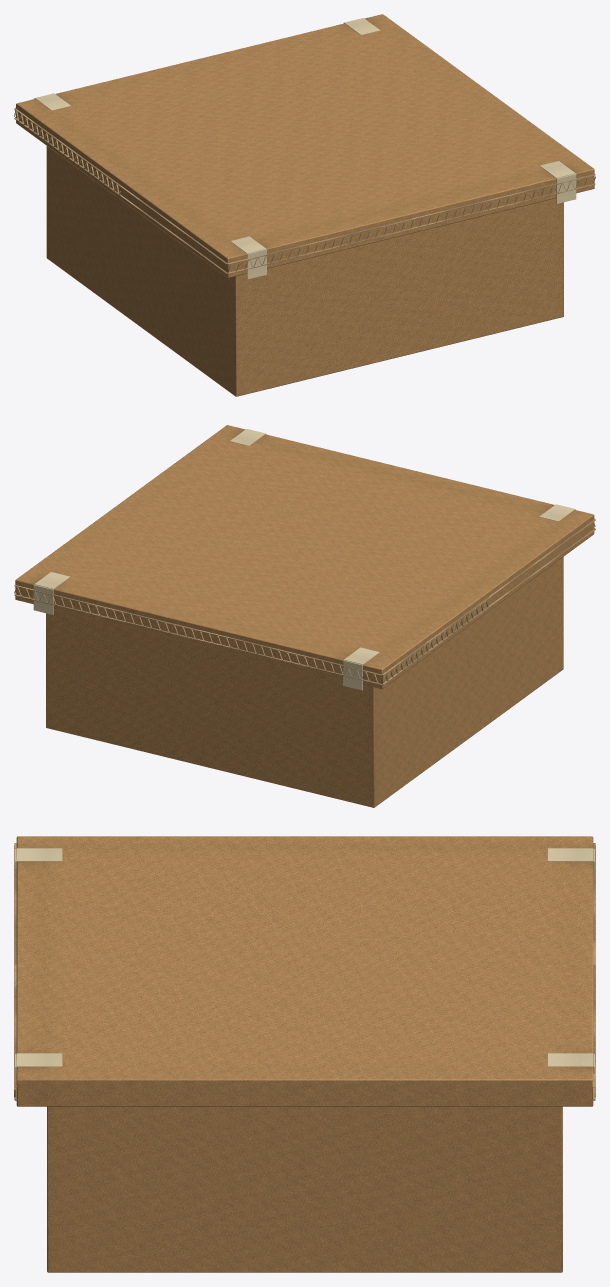
The model's file is 5-upper-box-1-1.fbx.
3 views of the same model, one above another, from view 1: azimuth 30°, elevation 25°; view 2: azimuth 150°, elevation 25°; view 3: azimuth 270°, elevation 25° (orthographic). The views are drawn at different scales.
Parts seen in each view (by area): view 1: upper-box-1-1; view 2: upper-box-1-1; view 3: upper-box-1-1.
Boxes of the visible parts, x1,y1,x2,y2 form: upper-box-1-1: (14, 14, 595, 396); upper-box-1-1: (14, 425, 595, 807); upper-box-1-1: (14, 836, 595, 1272).
Bounding box in the file's own units: 7636 × 3009 × 7672.
Materials: 1 (1 with a texture image).
